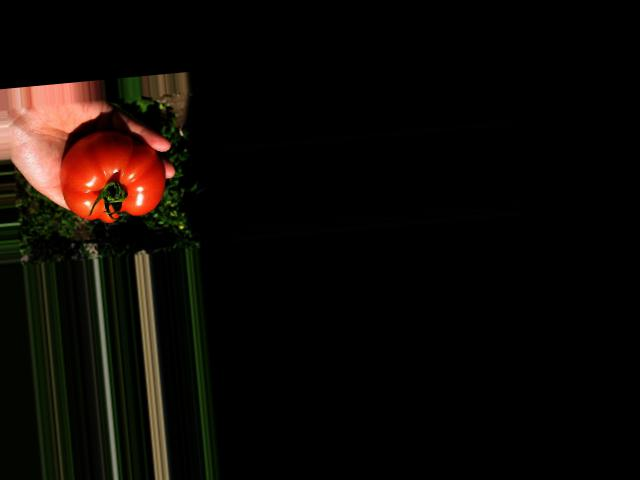tomato: (57, 126, 170, 226)
